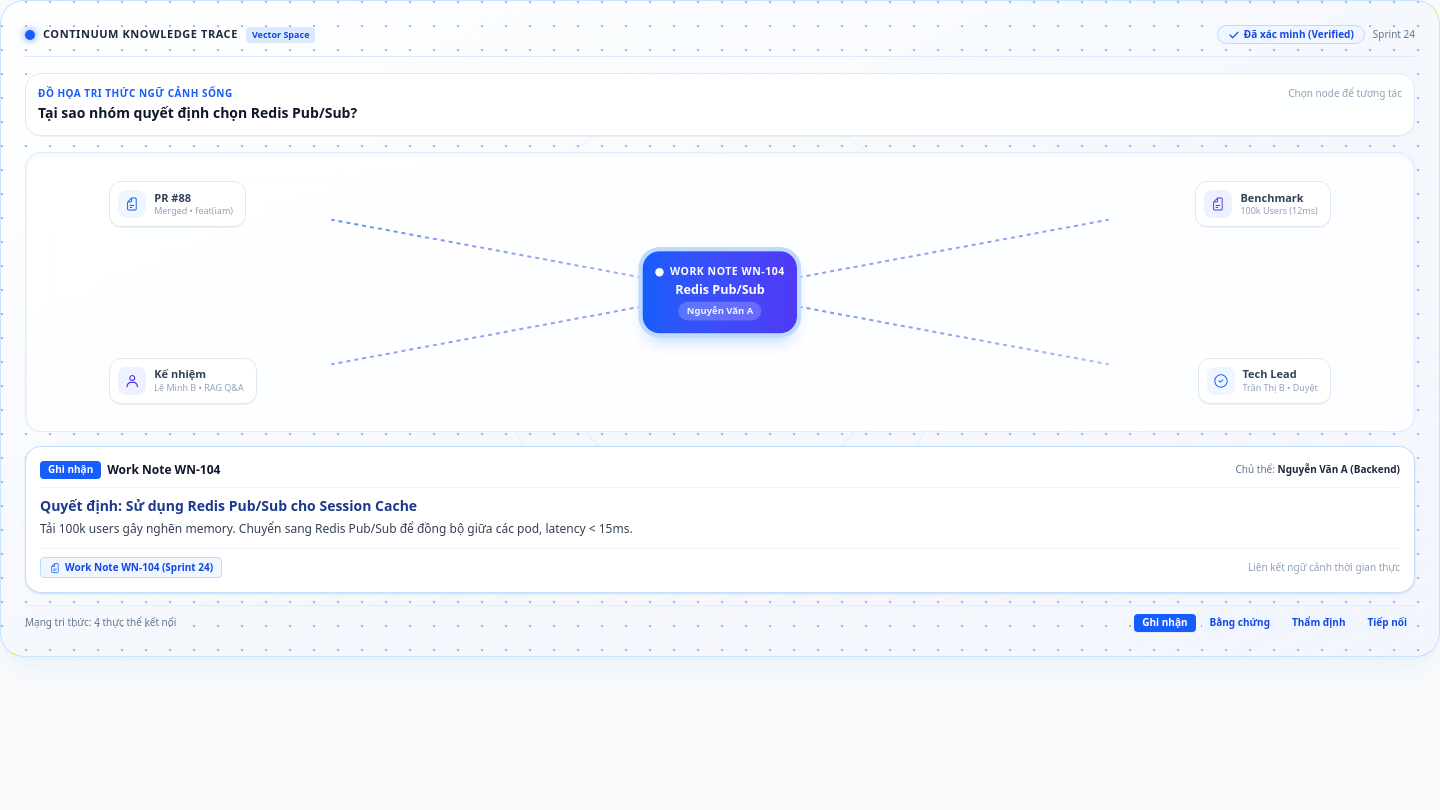
Test case: Continuum AI — Living Knowledge Experience › KnowledgeEcosystemGraph (Hero Knowledge Trace) › renders Continuum Knowledge Trace with interactive decision journey
expect the text "CONTINUUM KNOWLEDGE TRACE" is shown: met, box [43,27,238,42]
expect the heading "Tại sao nhóm quyết định chọn Redis Pub/Sub?" is shown: met, box [38,103,357,122]
# Click on stage 2: Bằng chứng
Step 1. Click the button "Bằng chứng" → click(1240, 623), box [1202,614,1278,632]
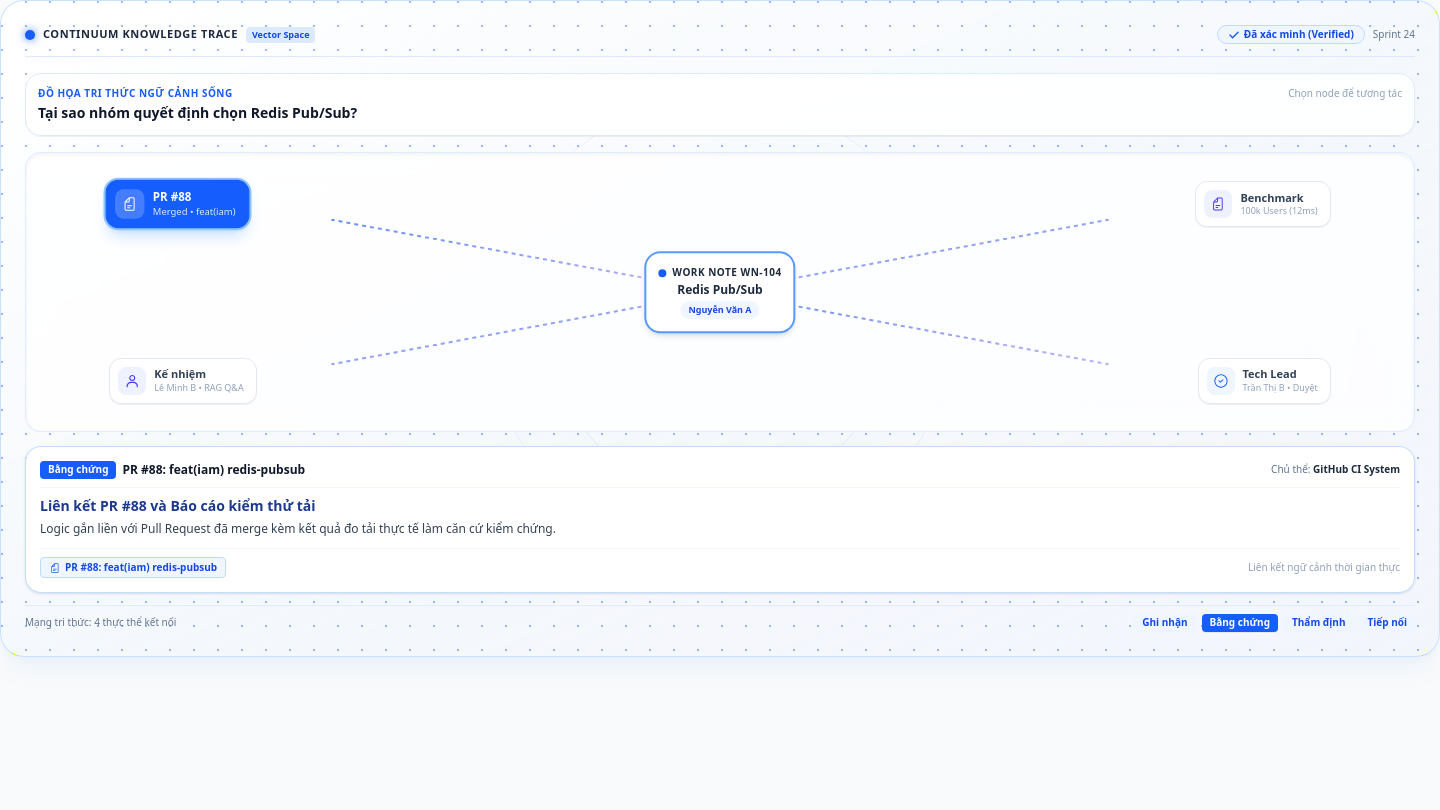
expect the heading "Liên kết PR #88 và Báo cáo kiểm thử tải" is shown: met, box [40,496,316,515]
expect the text "PR #88: feat(iam) redis-pubsub" is shown: met, box [122,462,305,478]
# Click on stage 3: Thẩm định
Step 2. Click the button "Thẩm định" → click(1319, 623), box [1284,614,1354,632]
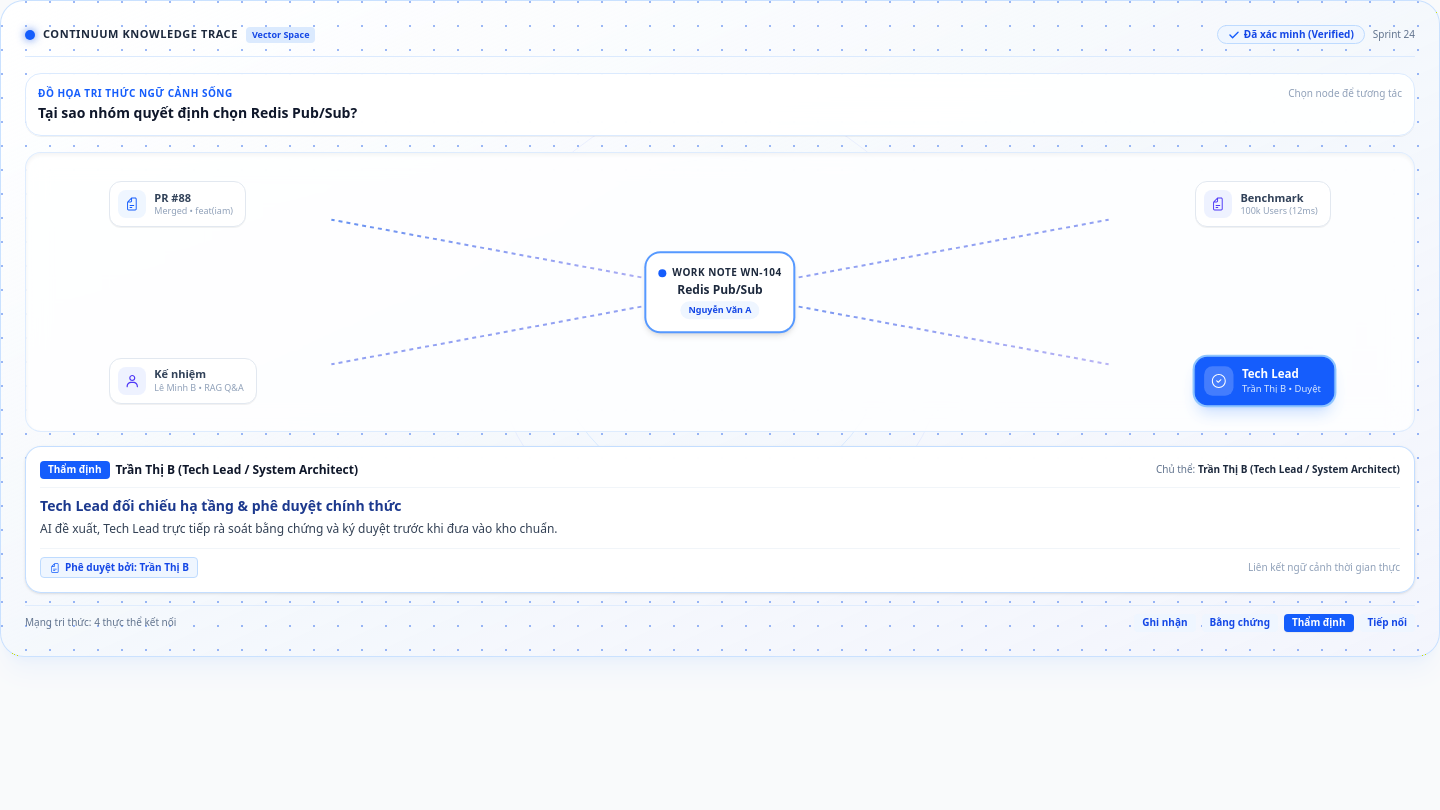
expect the heading "Tech Lead đối chiếu hạ tầng & phê duyệt chính thức" is shown: met, box [40,496,402,515]
expect the 1st text "Trần Thị B (Tech Lead / System Architect)" is shown: met, box [116,462,358,478]
